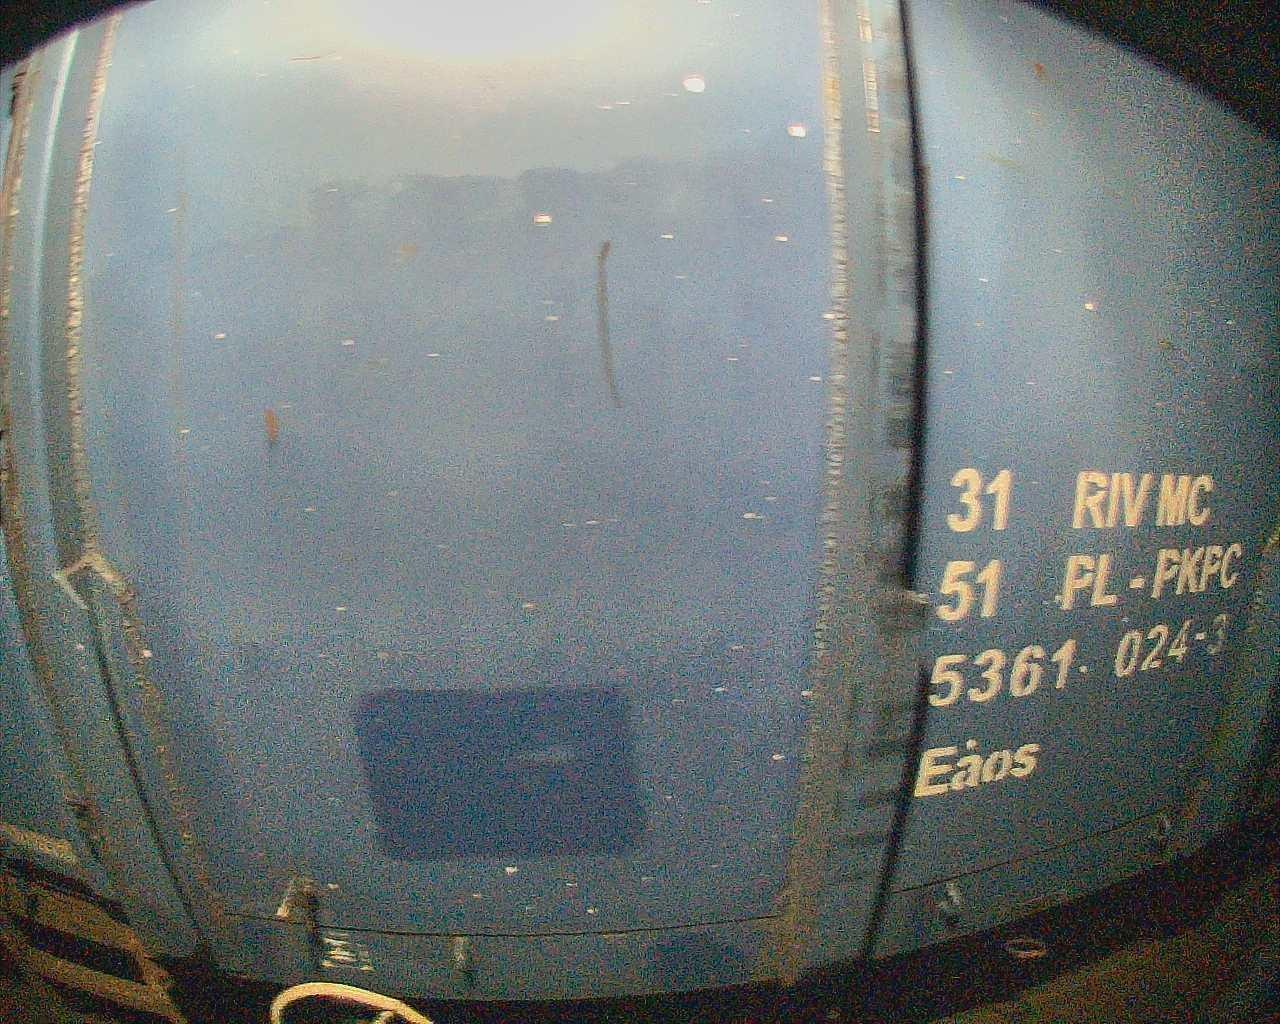UIC: (901, 464, 1244, 801)
